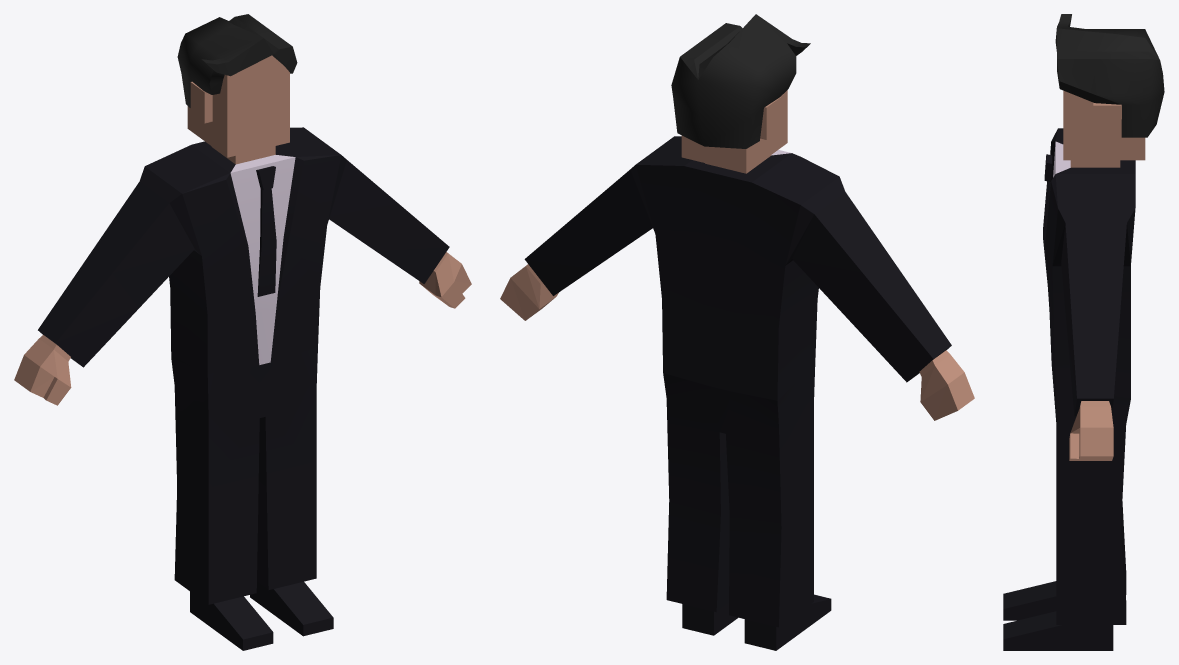
File: businessChet.FBX
3 renders of one model, left to right at view 1: azimuth 30°, elevation 25°; view 2: azimuth 150°, elevation 25°; view 3: azimuth 270°, elevation 25°, orthographic. The views are drawn at different scales.
Parts seen in each view (by area): view 1: businessMan; view 2: businessMan; view 3: businessMan.
Boxes of the visible parts, box(x1,y1,x2,y2) form: businessMan: box(14, 14, 471, 650); businessMan: box(500, 14, 974, 650); businessMan: box(1003, 14, 1164, 650).
Size of the model in its own units: 64.35 by 81.14 by 19.72.
